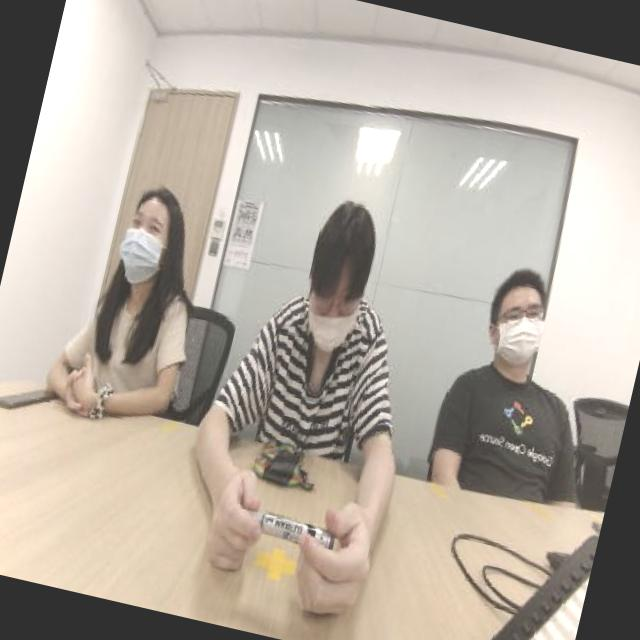Person: (220, 178, 435, 472), (417, 232, 636, 515), (46, 178, 230, 428)
